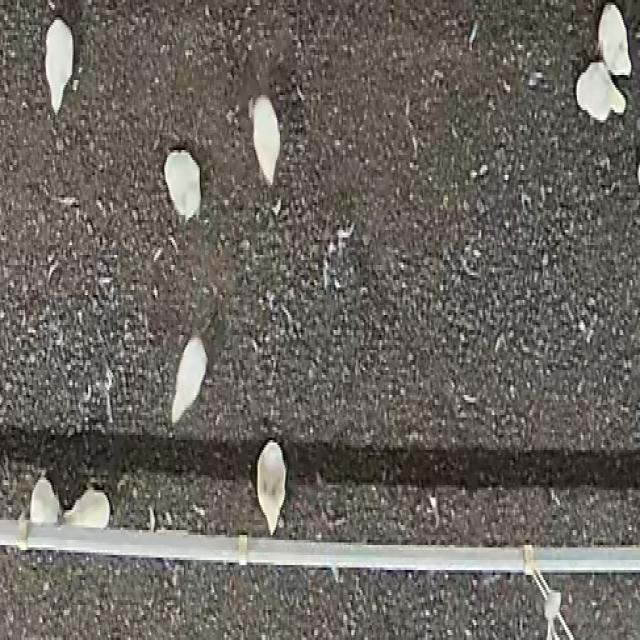broiler: (172, 335, 206, 422), (576, 60, 624, 120), (45, 18, 72, 112), (251, 95, 280, 182), (164, 150, 200, 218), (598, 2, 629, 72), (64, 488, 109, 525), (29, 475, 59, 522)
pipe: (0, 520, 639, 570)
